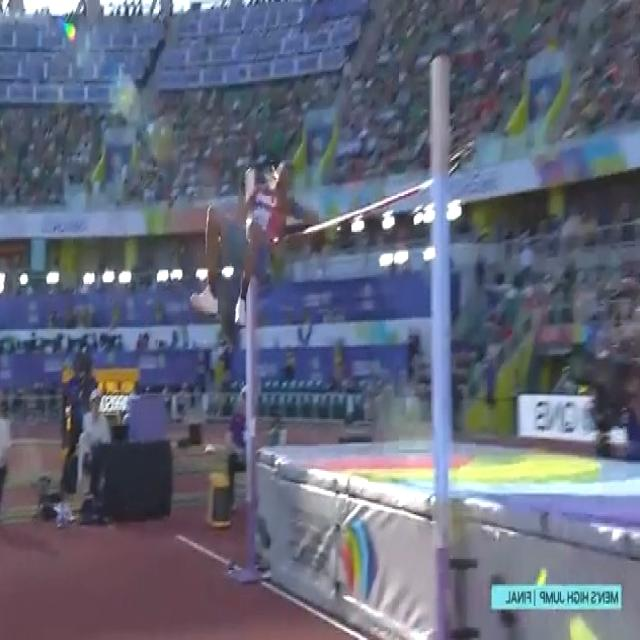land: (188, 158, 315, 326)
